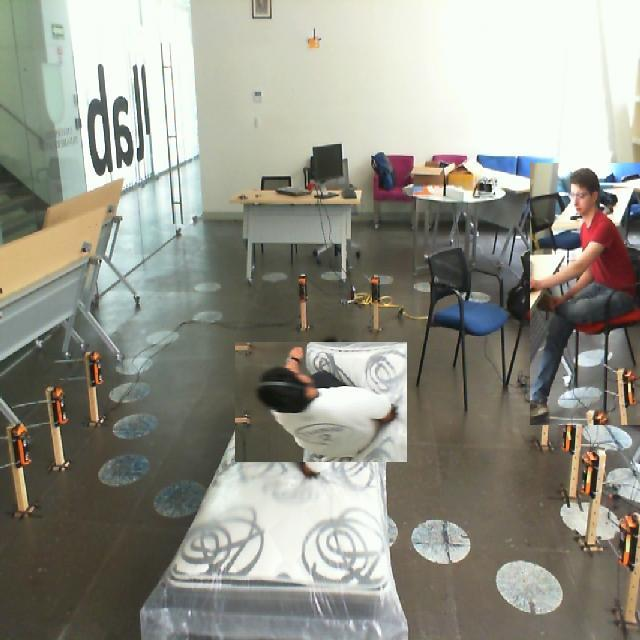Fall: (200, 338, 406, 476)
NotFall: (495, 173, 640, 413)
